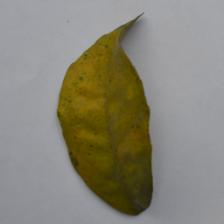greening: (53, 28, 165, 153)
